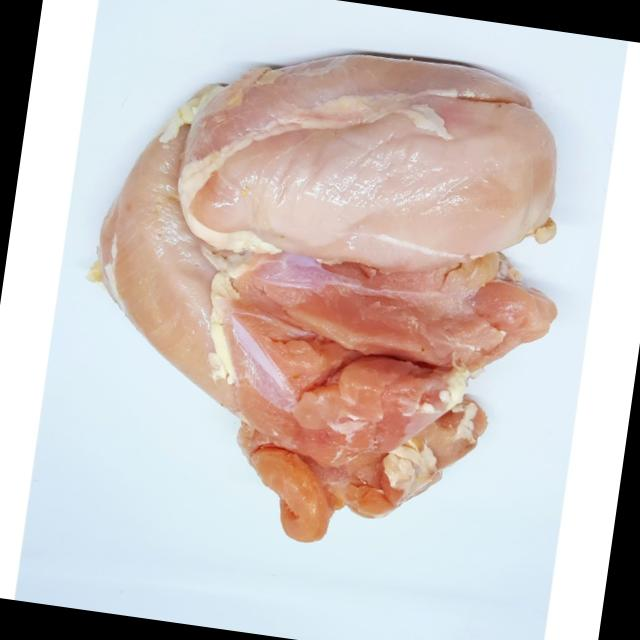chicken: (66, 21, 576, 572)
